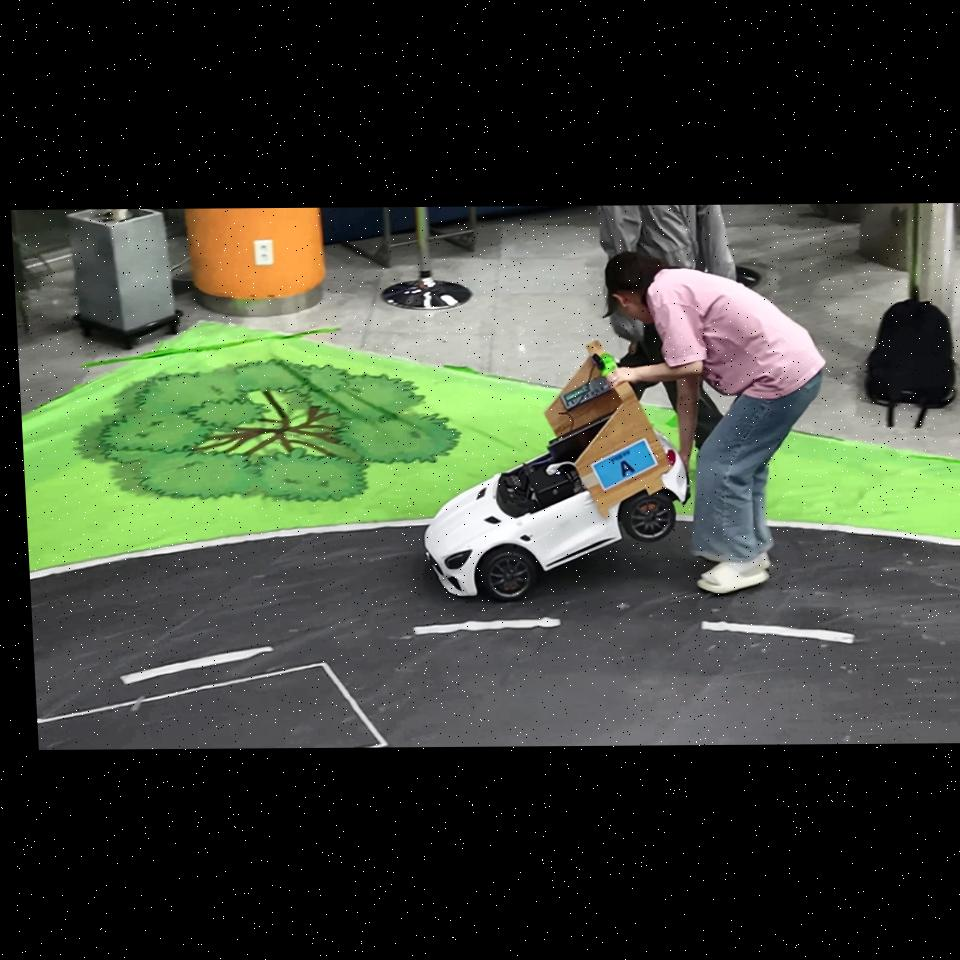broken_line: (121, 646, 272, 684), (702, 621, 855, 643), (413, 617, 561, 635)
